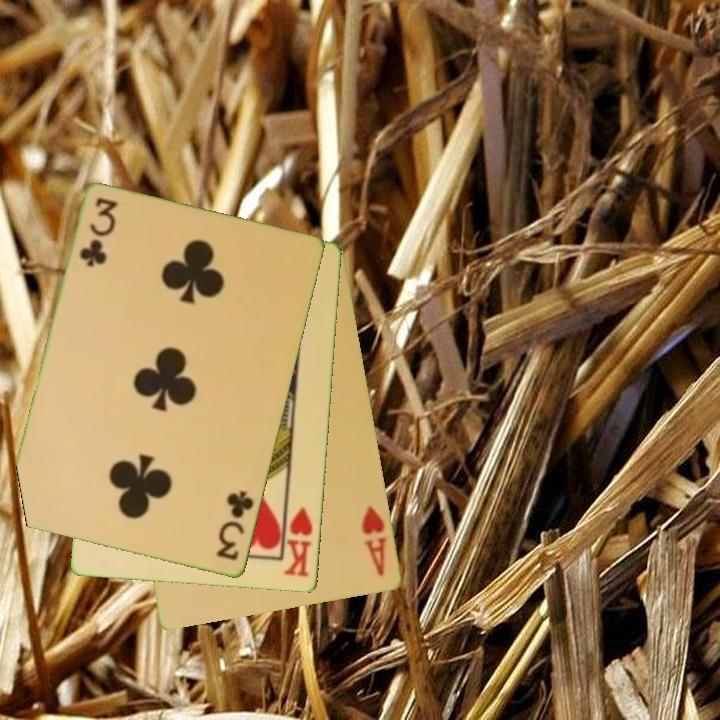3c: (213, 487, 257, 564), (76, 194, 120, 271)
Ah: (358, 503, 390, 580)
Kh: (280, 497, 316, 580)
